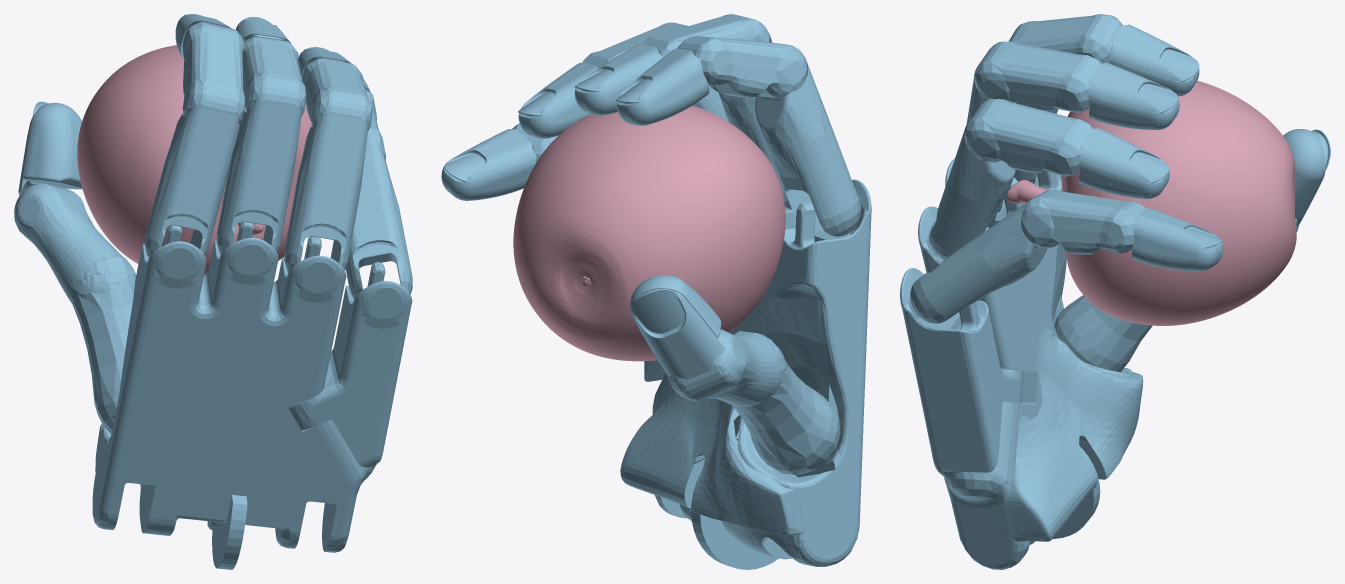
3 renders of one model, left to right at view 1: azimuth 30°, elevation 25°; view 2: azimuth 150°, elevation 25°; view 3: azimuth 270°, elevation 25°, orthographic. The views are drawn at different scales.
Visible parts, largest first — view 1: world; view 2: world; view 3: world.
Part boxes in pixels (left/top/right/bottom): world: left=14, top=14, right=412, bottom=569; world: left=441, top=14, right=871, bottom=569; world: left=900, top=14, right=1330, bottom=569.
Size of the model in its own units: 0.1162 by 0.1763 by 0.131.
